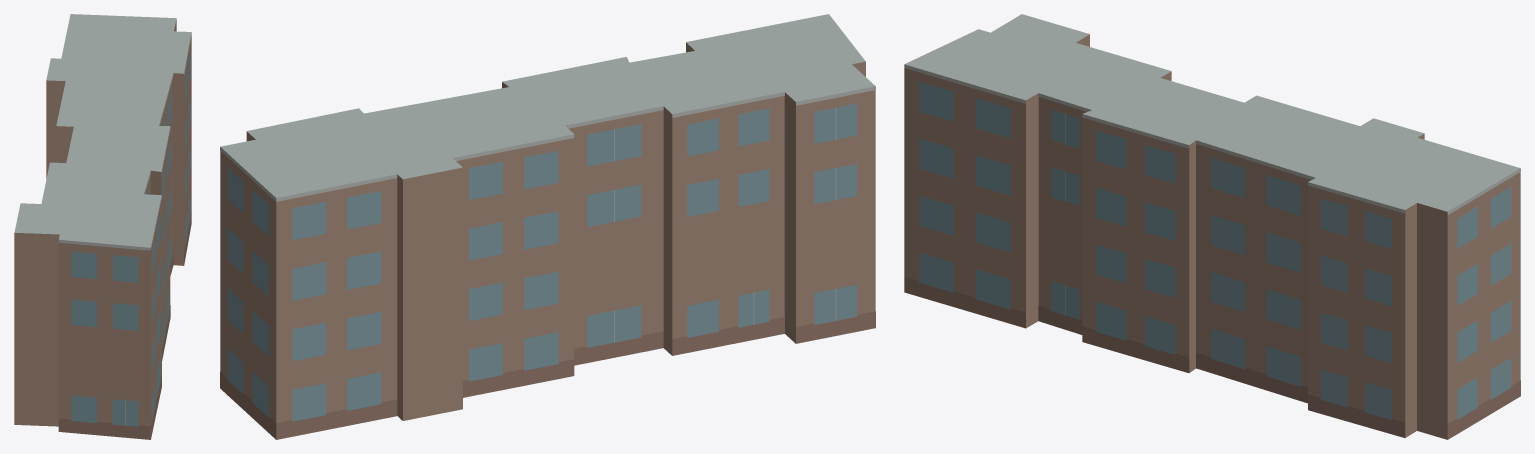
Rendered from survey-upis-32812891.glb.
The picture shows the model from 3 angles, left to right: view 1: azimuth 30°, elevation 25°; view 2: azimuth 150°, elevation 25°; view 3: azimuth 270°, elevation 25°; orthographic projection. The views are drawn at different scales.
Visible parts, largest first — view 1: survey-upis-32812891.tmp; view 2: survey-upis-32812891.tmp; view 3: survey-upis-32812891.tmp.
Boxes of the visible parts, <box> form: survey-upis-32812891.tmp: <box>14,14,191,439</box>; survey-upis-32812891.tmp: <box>220,14,875,439</box>; survey-upis-32812891.tmp: <box>904,14,1520,439</box>.
Size of the model in its own units: 29.22 by 15.7 by 38.47.
